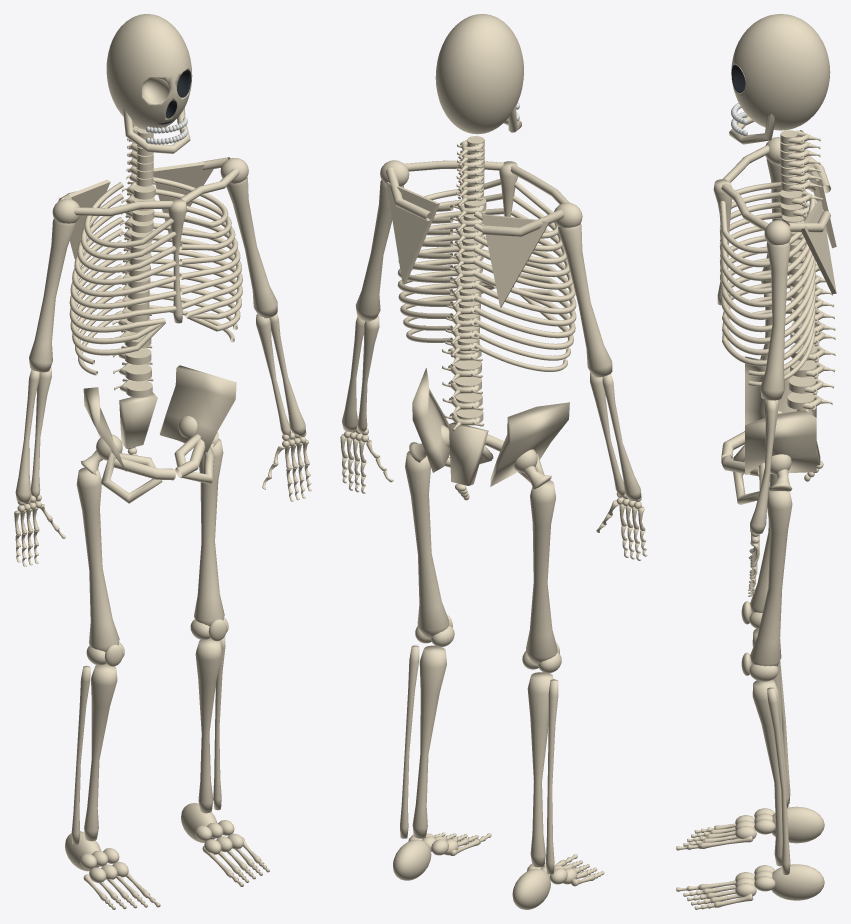
File: human-skeleton.glb
3 renders of one model, left to right at view 1: azimuth 30°, elevation 25°; view 2: azimuth 150°, elevation 25°; view 3: azimuth 270°, elevation 25°, orthographic. The views are drawn at different scales.
Parts seen in each view (by area): view 1: Cranium and facial block, Ilium left, Femur, Femur.001, Tibia, Humerus, Tibia.001, Humerus.001, Sacrum, Scapula left, Radius, Fibula (+34 smaller); view 2: Cranium and facial block, Femur, Femur.001, Ilium right, Tibia.001, Tibia, Scapula right, Humerus, Scapula left, Humerus.001, Ilium left, Sacrum (+20 smaller); view 3: Cranium and facial block, Femur.001, Ilium left, Humerus.001, Tibia.001, Calcaneus.001, Ilium right, Fibula.001, Radius.001, Scapula left, Calcaneus, Femur (+29 smaller).
Boxes of the visible parts, x1,y1,x2,y2 form: Cranium and facial block: [106, 14, 192, 129]; Ilium left: [159, 365, 236, 452]; Femur: [76, 467, 119, 651]; Femur.001: [194, 438, 224, 626]; Tibia: [84, 663, 117, 841]; Humerus: [29, 219, 75, 372]; Tibia.001: [195, 638, 222, 813]; Humerus.001: [226, 177, 277, 318]; Sacrum: [119, 392, 157, 448]; Scapula left: [153, 162, 213, 233]; Radius: [15, 369, 39, 502]; Fibula: [71, 665, 90, 844]; Cranium and facial block: [435, 14, 523, 134]; Femur: [526, 480, 557, 665]; Femur.001: [405, 451, 449, 639]; Ilium right: [490, 402, 569, 486]; Tibia.001: [412, 645, 446, 838]; Tibia: [527, 672, 553, 867]; Scapula right: [481, 214, 549, 307]; Humerus: [558, 223, 612, 377]; Scapula left: [386, 182, 439, 284]; Humerus.001: [355, 180, 403, 321]; Ilium left: [412, 368, 449, 472]; Sacrum: [449, 422, 488, 485]; Cranium and facial block: [731, 14, 830, 130]; Femur.001: [750, 490, 792, 666]; Ilium left: [745, 410, 816, 474]; Humerus.001: [760, 242, 790, 400]; Tibia.001: [752, 679, 782, 866]; Calcaneus.001: [771, 864, 824, 900]; Ilium right: [745, 356, 816, 424]; Fibula.001: [767, 687, 790, 874]; Radius.001: [750, 400, 776, 533]; Scapula left: [801, 201, 836, 294]; Calcaneus: [771, 806, 824, 843]; Femur: [750, 474, 777, 612].
Size of the model in its own units: 0.6341 by 1.74 by 0.2953.
